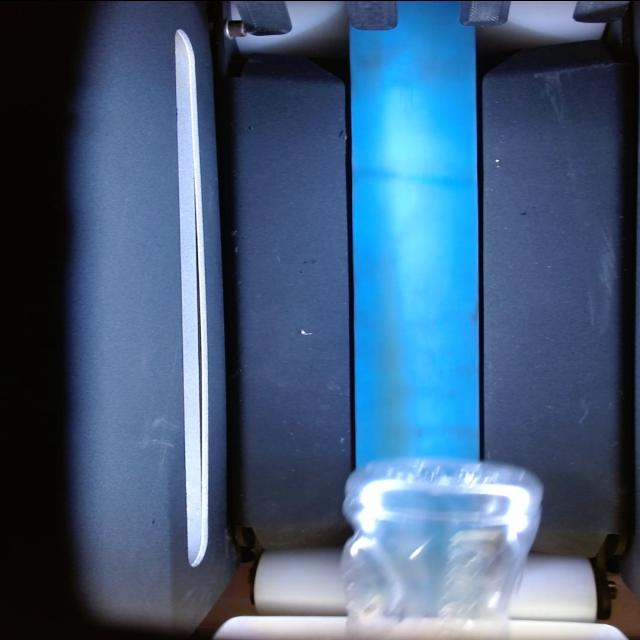bottom: (342, 458, 542, 640)
